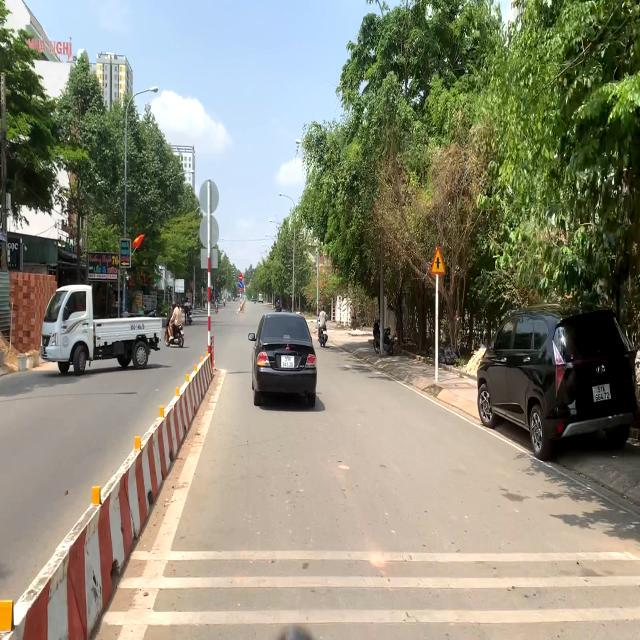Giao nhau voi duong khong uu tien: (429, 246, 447, 276)
